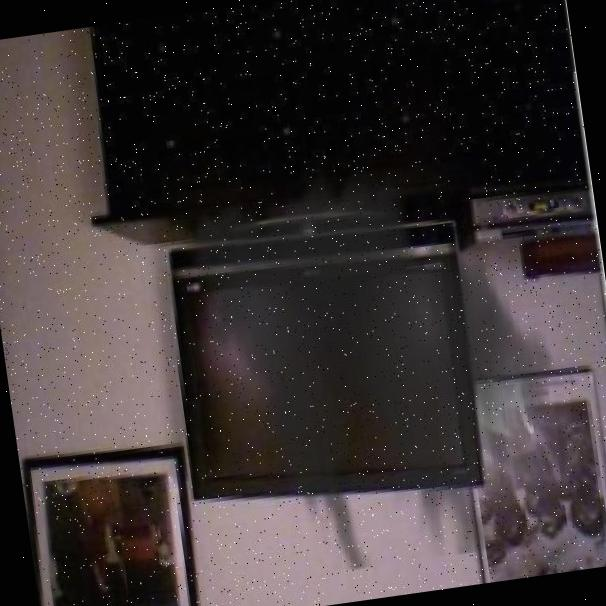smoke: (183, 146, 565, 563)
